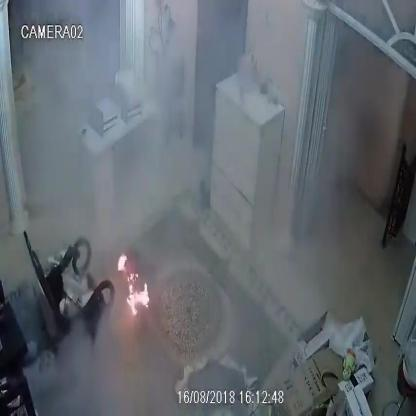fire: (127, 273, 150, 316), (118, 254, 128, 271)
